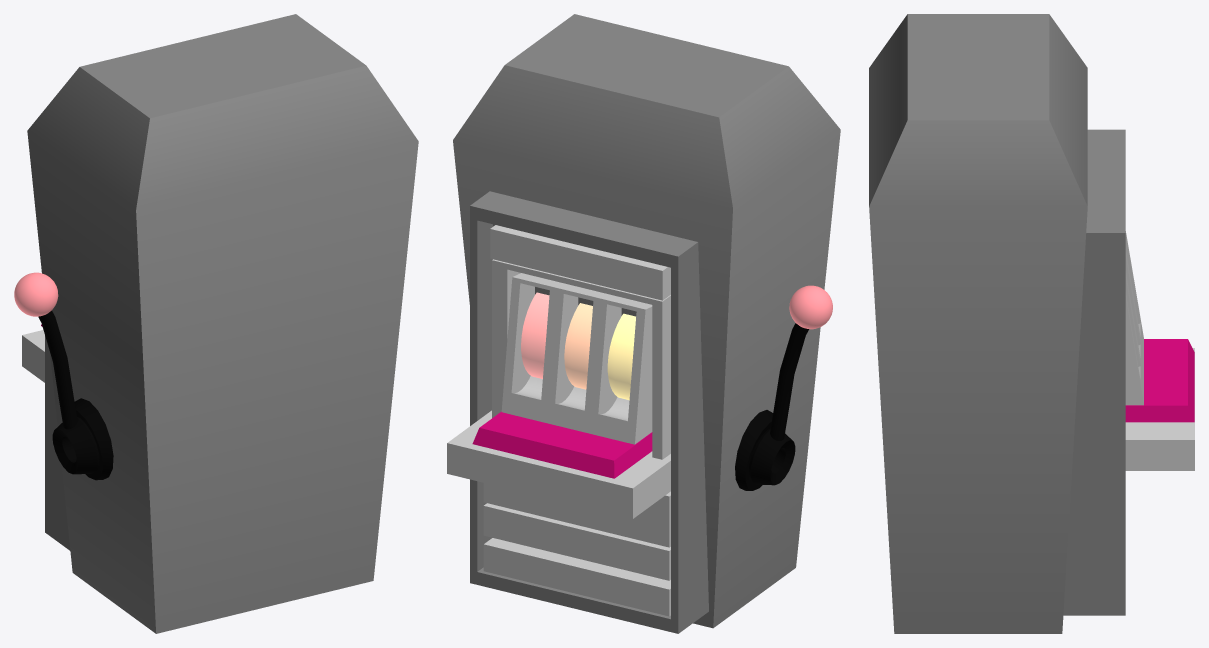
File: pachinko-big.glb
3 renders of one model, left to right at view 1: azimuth 30°, elevation 25°; view 2: azimuth 150°, elevation 25°; view 3: azimuth 270°, elevation 25°, orthographic.
Visible parts, largest first — view 1: Cube.001, Boolean.004, Tube.2, Boolean.1, Sphere, Boolean, Cube.3; view 2: Cube.001, Boolean.004, Boolean.003, Cube.3, Cube.5, Boolean.002, Cube.1, Cube.2, Cube.006, Cube.4, 돌2, 돌3 (+5 smaller); view 3: Cube.001, Boolean.004, Cube.006, Cube.3, Boolean.003.
Part boxes in pixels (x1,y1,x2,y2): Cube.001: (27,14,418,633); Boolean.004: (45,336,70,550); Tube.2: (38,310,77,429); Boolean.1: (52,418,97,474); Sphere: (14,272,58,316); Boolean: (74,398,113,480); Cube.3: (22,330,44,382); Cube.001: (453,14,840,628); Boolean.004: (470,191,708,633); Boolean.003: (501,273,652,444); Cube.3: (447,410,670,518); Cube.5: (483,538,670,616); Boolean.002: (492,259,670,459); Cube.1: (490,225,670,300); Cube.2: (483,503,670,580); Cube.006: (472,411,652,478); Cube.4: (483,483,670,547); 돌2: (564,303,592,389); 돌3: (607,313,635,400); Cube.001: (869,14,1087,633); Boolean.004: (1063,129,1125,615); Cube.006: (1125,339,1194,422); Cube.3: (1125,348,1194,470); Boolean.003: (1125,231,1143,405).
Bounding box in the file's own units: 3.76 × 5.44 × 3.13.
